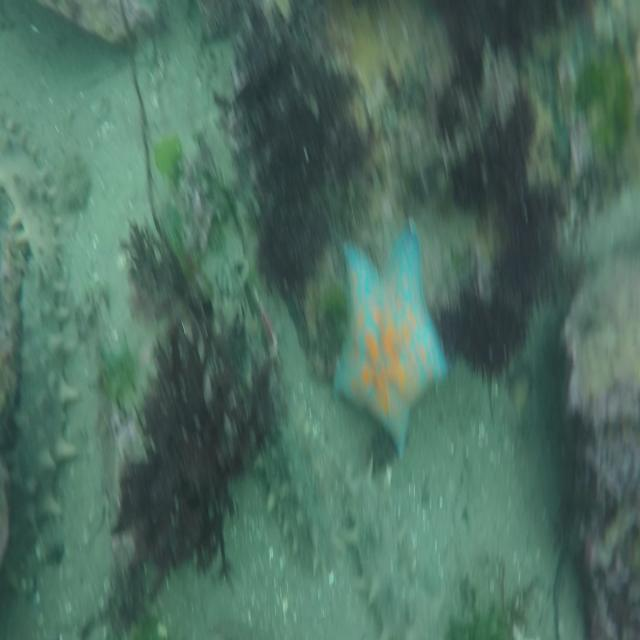holothurian: (4, 246, 76, 554), (248, 391, 332, 574), (337, 467, 413, 640), (0, 112, 57, 282)
starfish: (330, 223, 450, 454)
